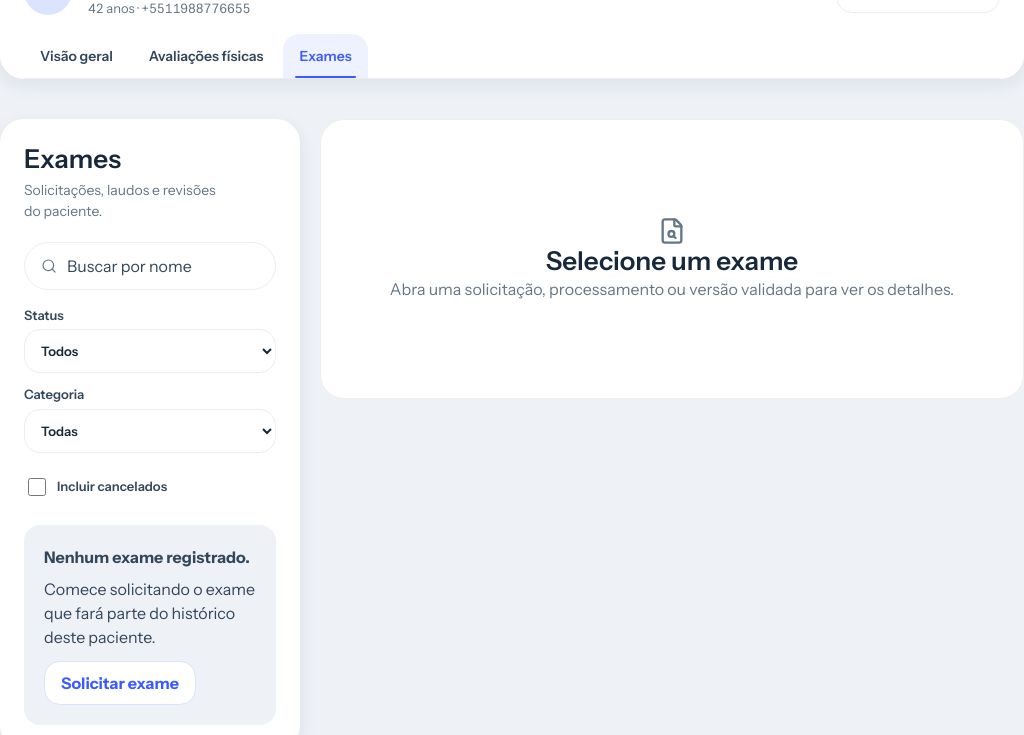
Test case: ação permitida no vazio abre a solicitação inline
(page scrolled)
Click the button "Solicitar exame" at (120,682), box [44, 660, 196, 704]
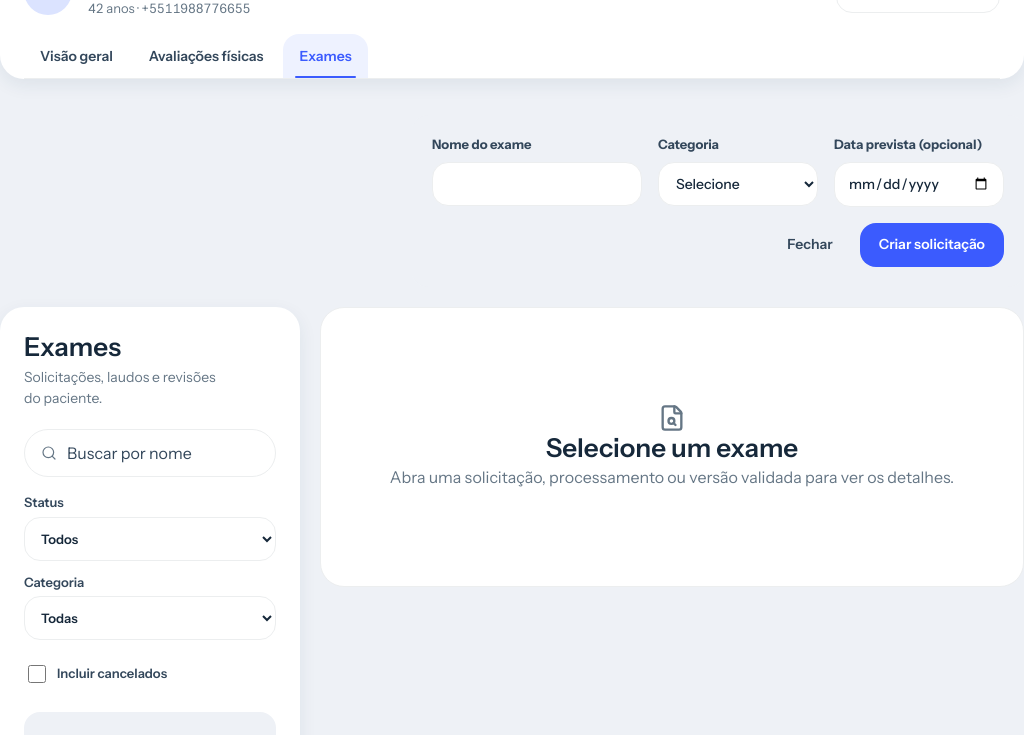
Result: the element named "Solicitar exame" is shown at [412, 115, 1023, 286]
